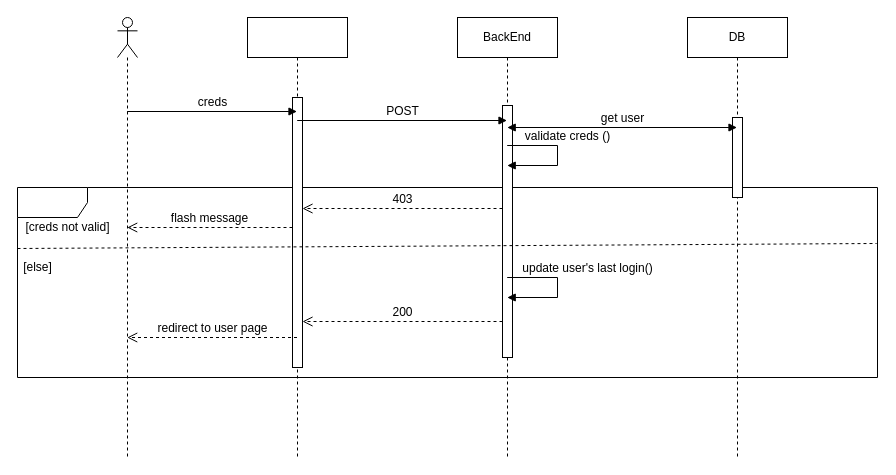
Some shapes in this 896 by 475 pixel diagram are drawn without their labels. Each missing label, with the box of its shape:
alternative: (16, 186, 878, 378)
UI: (246, 16, 348, 458)
